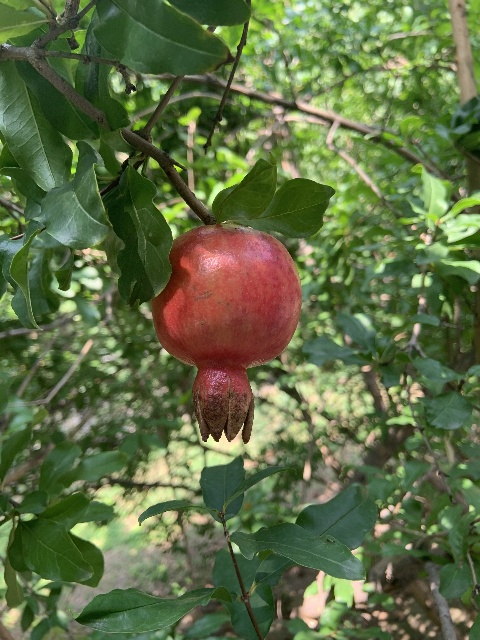ripe: (151, 223, 302, 443)
